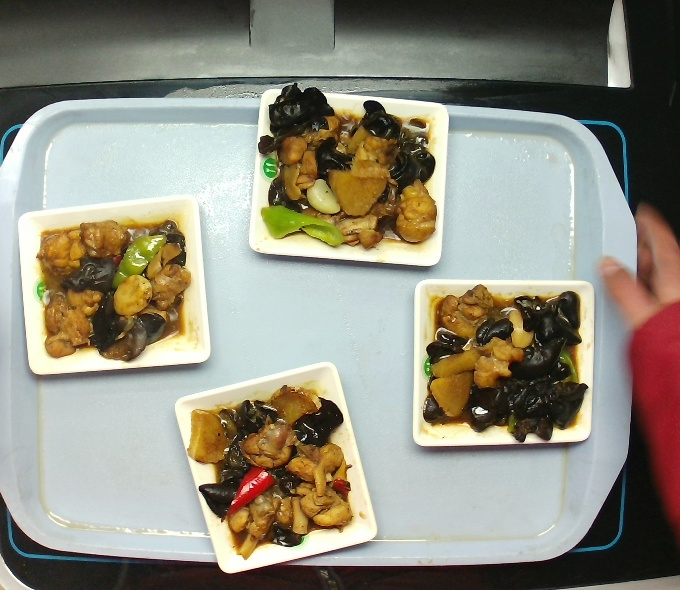wcq-MuErJiRou: (416, 276, 590, 451), (29, 200, 197, 369), (189, 378, 353, 550), (266, 80, 431, 247)
